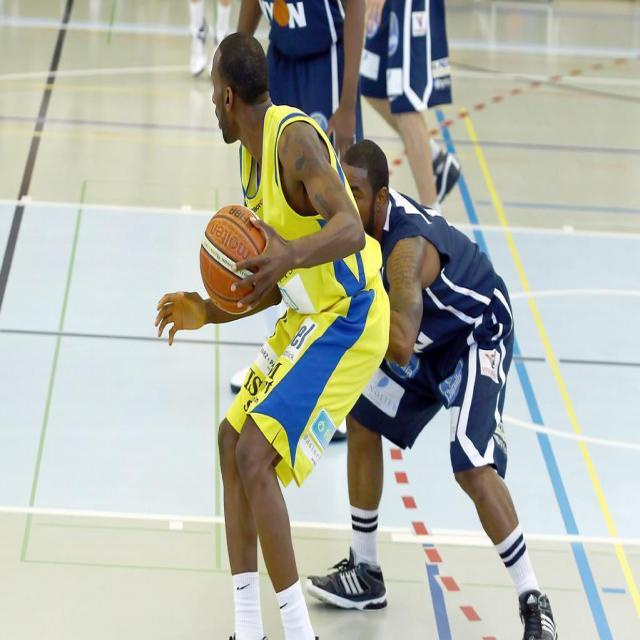rim: (196, 204, 276, 316)
